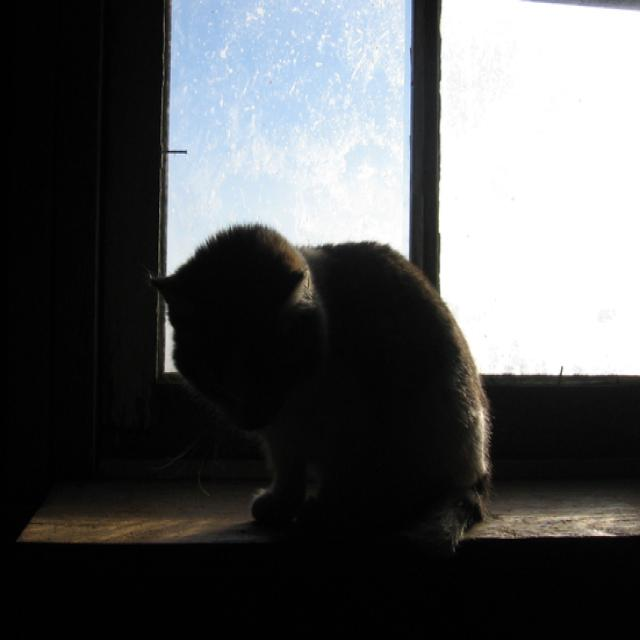Cat: (149, 226, 497, 571)
